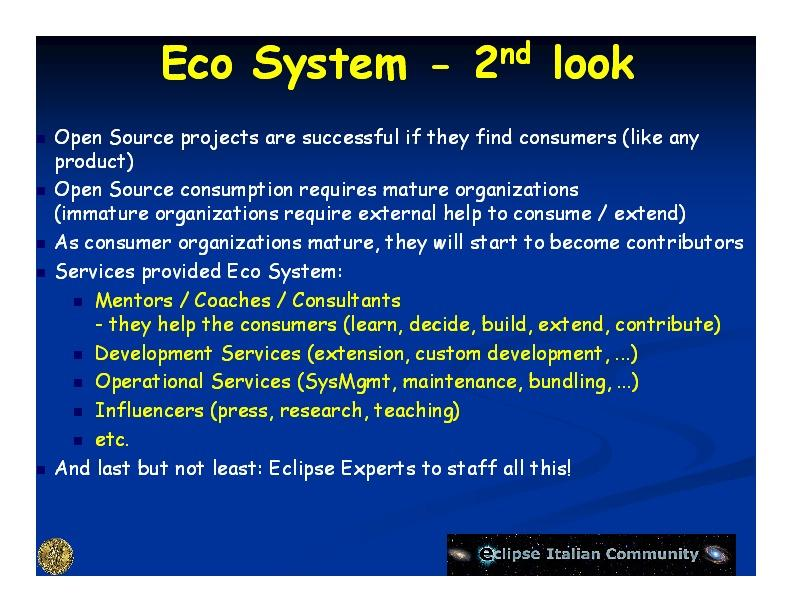paragraph: (34, 120, 750, 493)
subtitle: (450, 535, 750, 577)
title: (156, 33, 644, 99)
